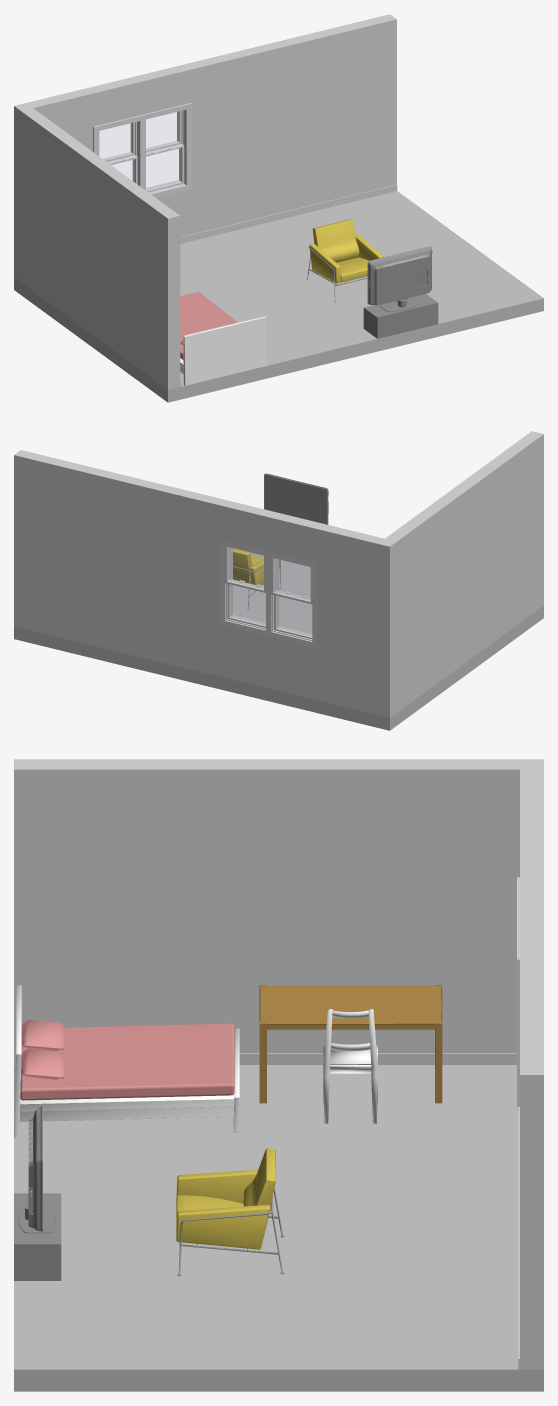
File: L14_W20_furniture3_privacy3.glb
The picture shows the model from 3 angles, top to bottom: view 1: azimuth 30°, elevation 25°; view 2: azimuth 150°, elevation 25°; view 3: azimuth 270°, elevation 25°; orthographic projection. The views are drawn at different scales.
Bounding box in the file's own units: 248 × 116 × 176.
